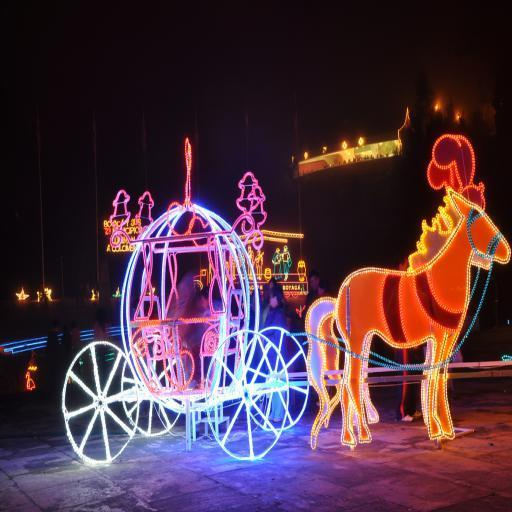horse: (305, 190, 512, 450), (320, 192, 492, 430)
